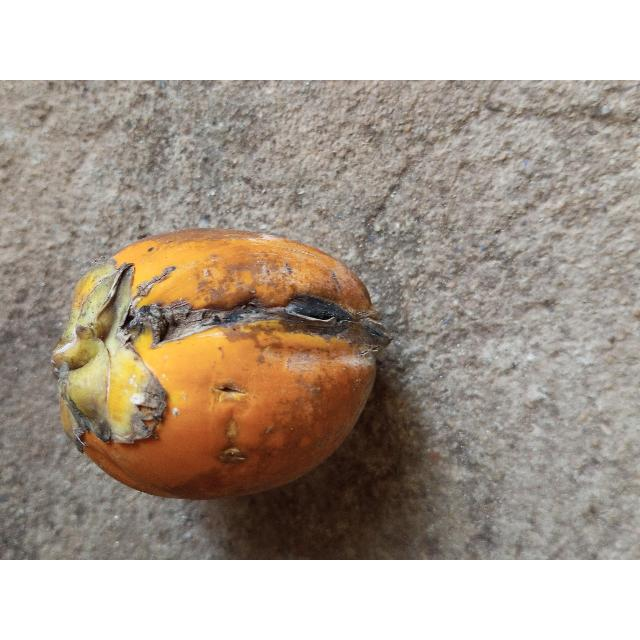damaged: (52, 229, 393, 499)
